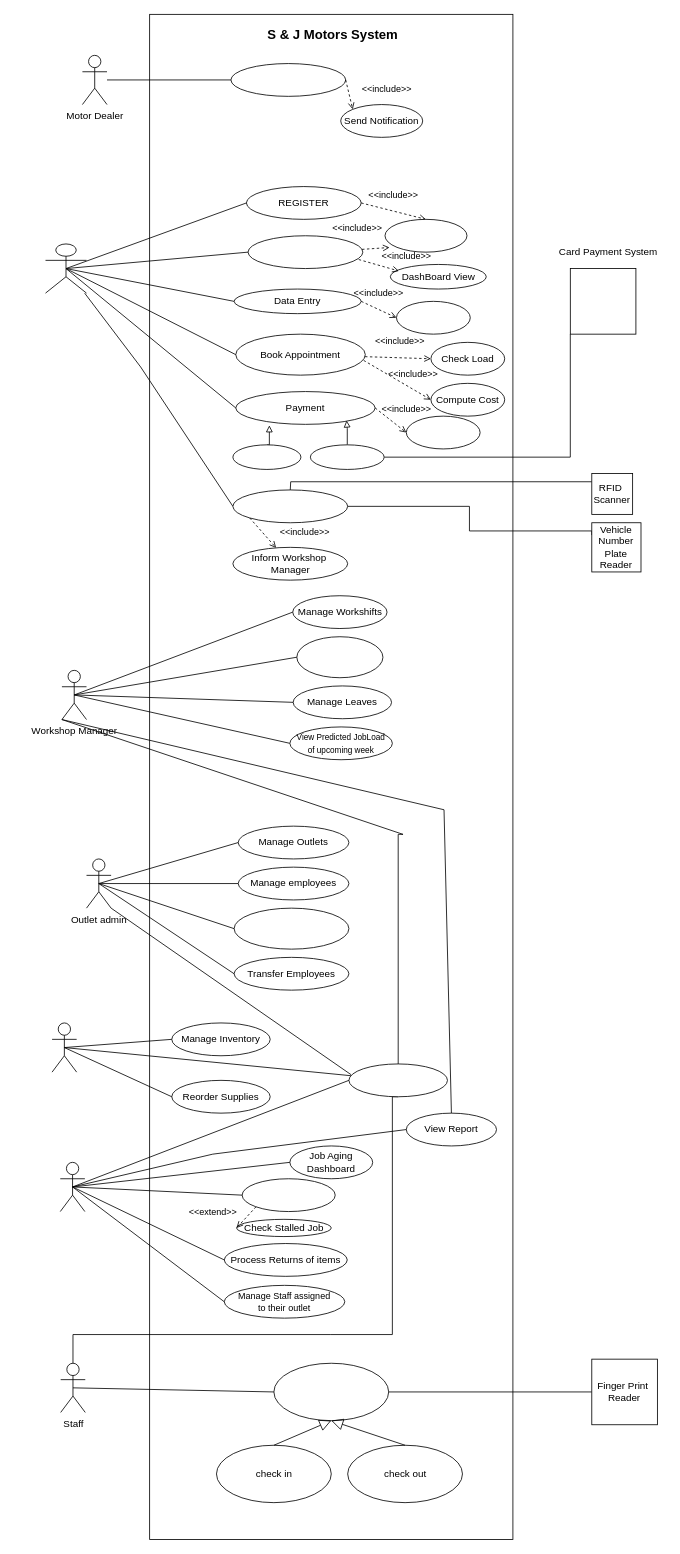
The diagram is 680 pixels wide and 1554 high, and some of its shapes have lost their labels. Each missing label, with the centre of its shape:
Add Points: the point at 442,432
Card: the point at 347,456
Cash: the point at 266,456
Check Jobs: the point at 288,1195
Compute AVG's: the point at 433,317
Enter Data: the point at 288,79
Enters With Vehicle: the point at 290,506
Floor Manager: the point at 72,1187
Inventory manager: the point at 64,1047
Login: the point at 397,1080
Manage Maintainance Schedules: the point at 339,657
Manage working Shift schedules: the point at 291,928
markAttendance: the point at 331,1391
OTP Authentication: the point at 425,235
User: the point at 66,268
UserLogin: the point at 305,252
